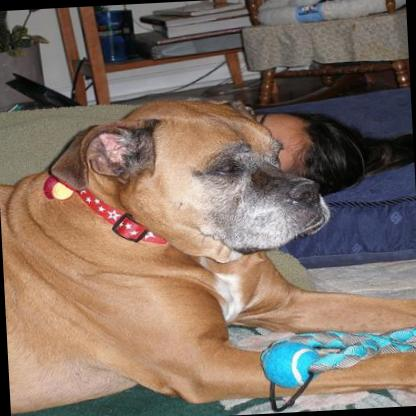boxer: (0, 77, 416, 416)
